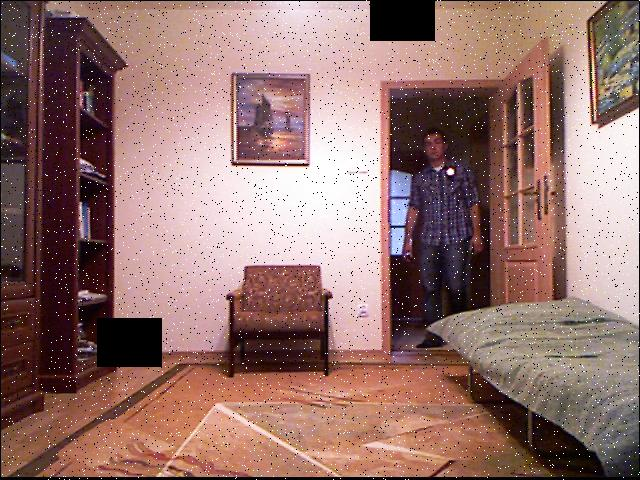standing: (403, 124, 486, 343)
